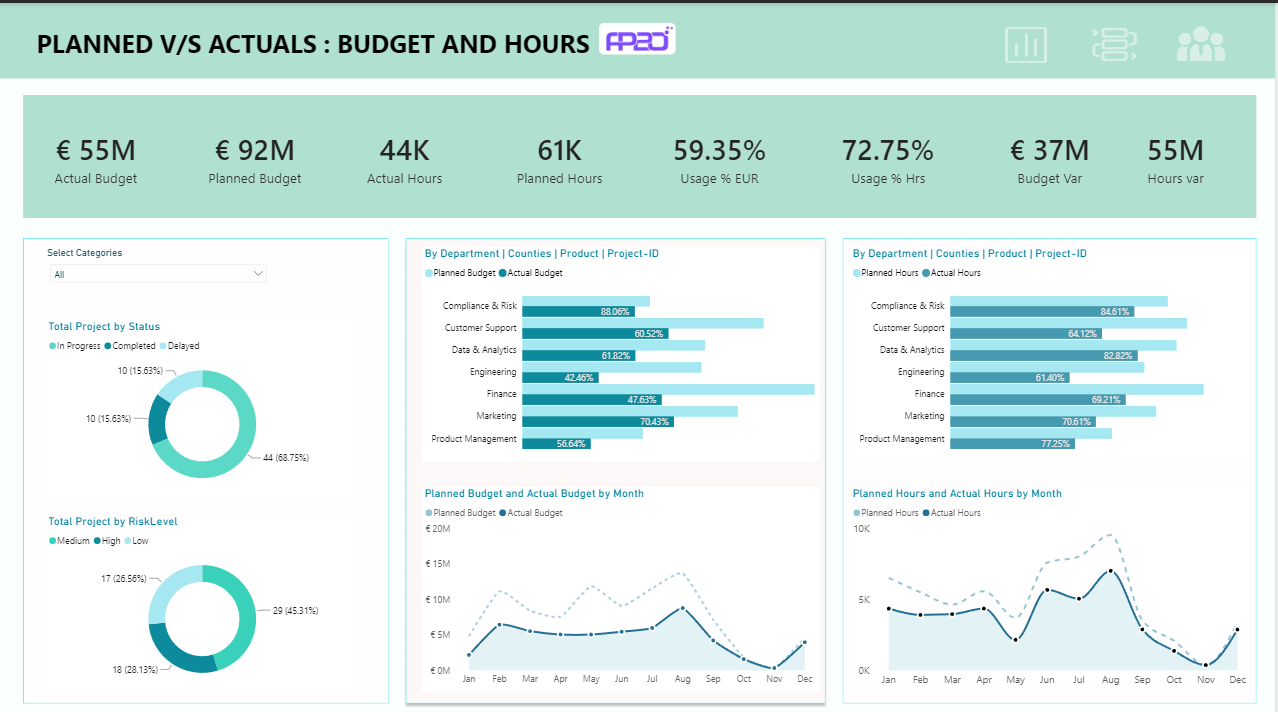

What the dashboard file says about the page in this screenshot:
{"tool":"powerbi","page":{"name":"Budget and Actual Overview","canvas":[1920,1080],"ordinal":0},"visuals":[{"type":"cardVisual","fields":{"Data":["_KPIs MeasureTable.Actual Budget"]},"box":[50.3,153.2,189.1,160.4],"z":0},{"type":"cardVisual","fields":{"Data":["_KPIs MeasureTable.Planned Budget"]},"box":[282.5,153.2,201.1,160.4],"z":1000},{"type":"cardVisual","fields":{"Data":["_KPIs MeasureTable.Actual Hours"]},"box":[514.7,153.2,189,160.4],"z":2000},{"type":"cardVisual","fields":{"Data":["_KPIs MeasureTable.Usage % EUR"]},"box":[979,153.2,208.3,160.4],"z":3000},{"type":"cardVisual","fields":{"Data":["_KPIs MeasureTable.Usage % Hrs"]},"box":[1235.2,153.2,205.9,160.4],"z":4000},{"type":"cardVisual","fields":{"Data":["_KPIs MeasureTable.Hours var"]},"box":[1675.6,153.2,189,160.4],"z":5000},{"type":"cardVisual","fields":{"Data":["_KPIs MeasureTable.Budget Var"]},"box":[1486.5,153.2,189.1,160.4],"z":6000},{"type":"cardVisual","fields":{"Data":["_KPIs MeasureTable.Planned Hours"]},"box":[746.9,153.2,189,160.4],"z":7000},{"type":"donutChart","fields":{"Category":["Projects.Status"],"Y":["_KPIs MeasureTable.Total Project"]},"box":[67.8,476.6,472.6,267.2],"z":8000},{"type":"donutChart","fields":{"Category":["Projects.RiskLevel"],"Y":["_KPIs MeasureTable.Total Project"]},"box":[67.8,769.8,472.6,267.2],"z":9000},{"type":"clusteredBarChart","title":"By Department | Counties | Product | Project-ID","fields":{"Category":["Departments.Department_Name","Country.Country","Projects.ProductName","Projects.ProjectID"],"Y":["_KPIs MeasureTable.Planned Budget","_KPIs MeasureTable.Actual Budget"]},"box":[634.1,366.9,600.2,323.1],"z":10000},{"type":"lineChart","title":"Planned Budget and Actual Budget by Month","fields":{"Category":["Projects.Month Name"],"Y":["_KPIs MeasureTable.Planned Budget","_KPIs MeasureTable.Actual Budget"]},"box":[634.1,727.9,600.2,309.1],"z":11000},{"type":"lineChart","title":"Planned Hours and Actual Hours by Month ","fields":{"Category":["Projects.ActualStartDate Hierarchy.Month Name"],"Y":["_KPIs MeasureTable.Planned Hours","_KPIs MeasureTable.Actual Hours"]},"box":[1278.3,727.7,608,311.2],"z":12000},{"type":"clusteredBarChart","title":"By Department | Counties | Product | Project-ID","fields":{"Category":["Departments.Department_Name","Country.Country","Projects.ProductName","Projects.ProjectID"],"Y":["_KPIs MeasureTable.Planned Hours","_KPIs MeasureTable.Actual Hours"]},"box":[1278.3,366.9,600.2,323.1],"z":13000},{"type":"slicer","title":"Select Categories","fields":{"Values":["Visual Hierarchy.Visual Hierarchy"]},"box":[65.8,366.9,345,65.8],"z":14000},{"type":"textbox","box":[49.9,29.9,909.3,75.8],"z":15000},{"type":"image","box":[895.4,29.9,127.6,47.9],"z":16000},{"type":"actionButton","box":[1502.5,32.5,85,62.5],"z":17000},{"type":"actionButton","box":[1635,30,85,65],"z":18000},{"type":"actionButton","box":[1765,30,85,62.5],"z":19000}]}

Visuals, with their boxes in screenshot pixels (x1, y1, x2, y2), scaled from the page's 1920x1080 canvas onto the 1278x712 screenshot:
cardVisual - _KPIs MeasureTable.Actual Budget: bbox(33, 101, 159, 207)
cardVisual - _KPIs MeasureTable.Planned Budget: bbox(188, 101, 322, 207)
cardVisual - _KPIs MeasureTable.Actual Hours: bbox(343, 101, 468, 207)
cardVisual - _KPIs MeasureTable.Usage % EUR: bbox(652, 101, 790, 207)
cardVisual - _KPIs MeasureTable.Usage % Hrs: bbox(822, 101, 959, 207)
cardVisual - _KPIs MeasureTable.Hours var: bbox(1115, 101, 1241, 207)
cardVisual - _KPIs MeasureTable.Budget Var: bbox(989, 101, 1115, 207)
cardVisual - _KPIs MeasureTable.Planned Hours: bbox(497, 101, 623, 207)
donutChart - Projects.Status x _KPIs MeasureTable.Total Project: bbox(45, 314, 360, 490)
donutChart - Projects.RiskLevel x _KPIs MeasureTable.Total Project: bbox(45, 507, 360, 684)
"By Department | Counties | Product | Project-ID" clusteredBarChart: bbox(422, 242, 822, 455)
"Planned Budget and Actual Budget by Month" lineChart: bbox(422, 480, 822, 684)
"Planned Hours and Actual Hours by Month " lineChart: bbox(851, 480, 1256, 685)
"By Department | Counties | Product | Project-ID" clusteredBarChart: bbox(851, 242, 1250, 455)
"Select Categories" slicer: bbox(44, 242, 273, 285)
textbox: bbox(33, 20, 638, 70)
image: bbox(596, 20, 681, 51)
actionButton: bbox(1000, 21, 1057, 63)
actionButton: bbox(1088, 20, 1145, 63)
actionButton: bbox(1175, 20, 1231, 61)
